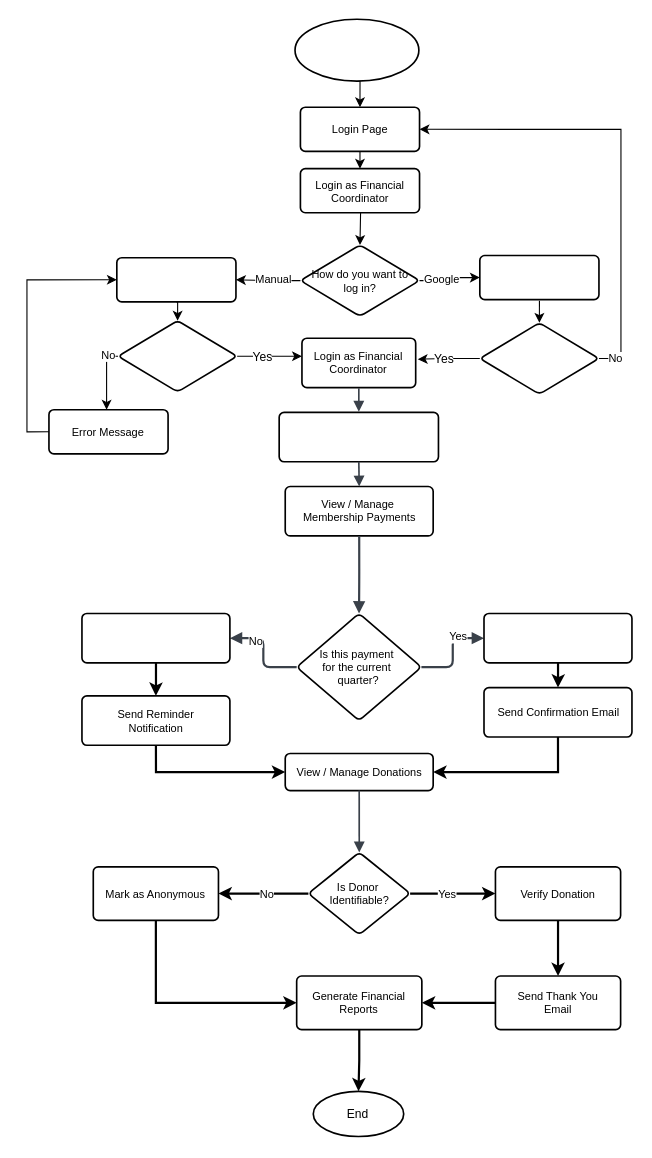
Image size: 652x1158. Some labels were removed from this diagram. Each missing label, with the centre of its shape:
"Check for due/missing" goes at pixel 155 637.
"Enter Account Credential" goes at pixel 176 279.
"Is email registered?" goes at pixel 539 358.
"Is the credentials correct?" goes at pixel 177 355.
"Login with Google" goes at pixel 539 277.
"Record Payment" goes at pixel 557 637.
"Start" goes at pixel 356 50.
"View Financial Dashboard" goes at pixel 358 436.
